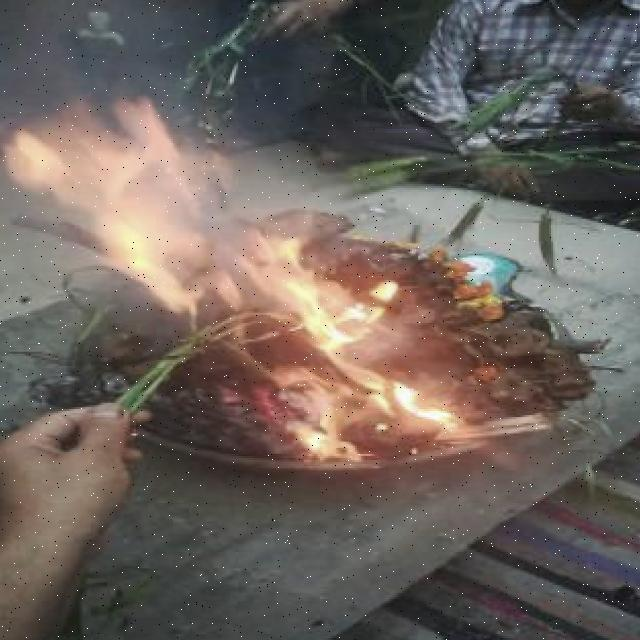fire: (0, 104, 265, 298), (284, 366, 518, 462), (255, 249, 373, 366)
smoke: (0, 2, 267, 106)
